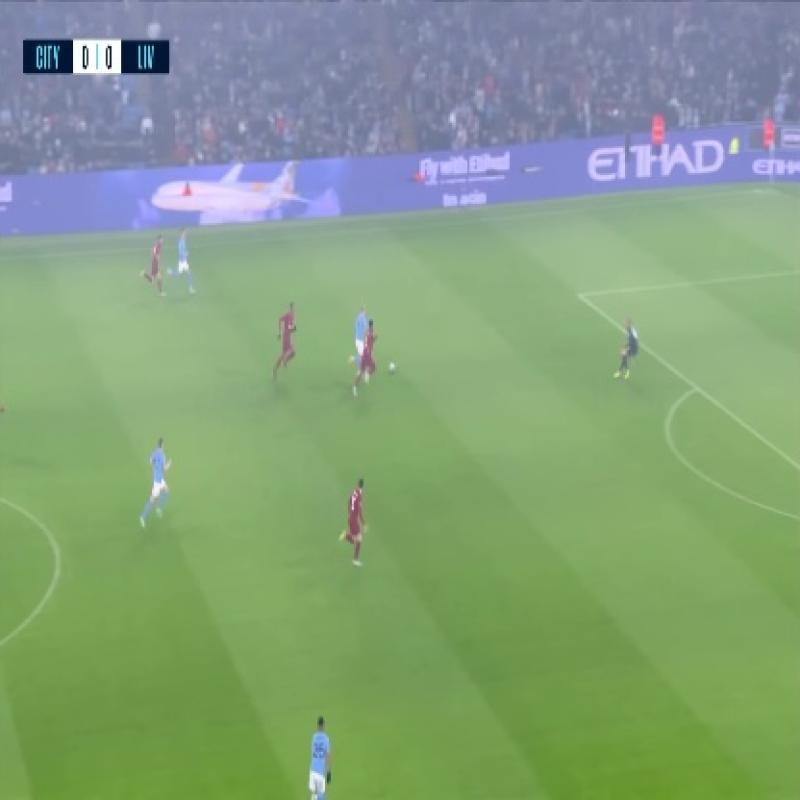1: (756, 180, 779, 198)
10: (684, 373, 706, 400)
9: (568, 280, 589, 308)
c: (48, 537, 70, 566)
